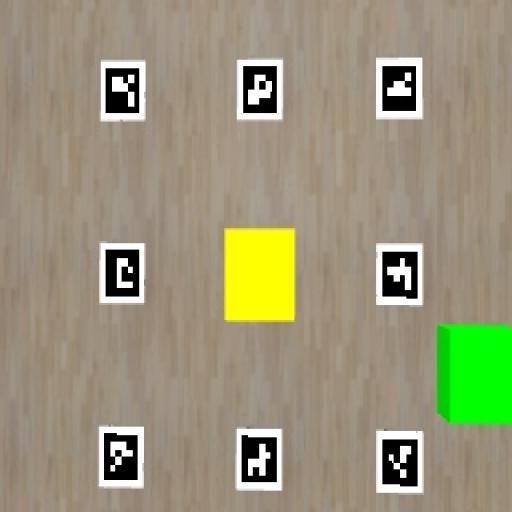car: (437, 325, 511, 426)
fire: (224, 229, 295, 322)
